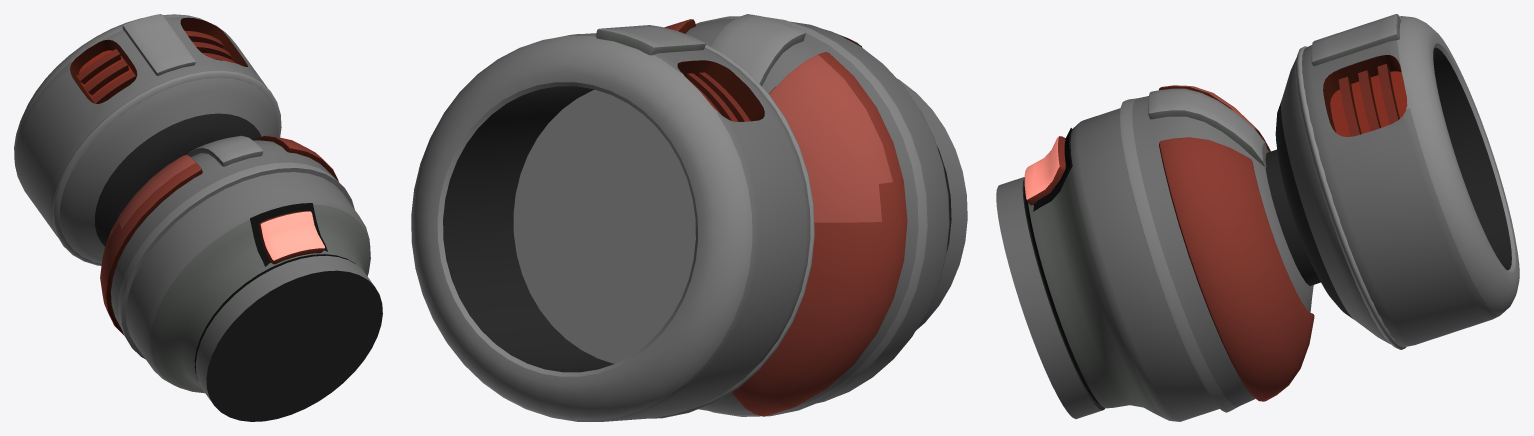
The model's file is red_tower_vents.glb.
The picture shows the model from 3 angles, left to right: view 1: azimuth 30°, elevation 25°; view 2: azimuth 150°, elevation 25°; view 3: azimuth 270°, elevation 25°; orthographic projection. The views are drawn at different scales.
Visible parts, largest first — view 1: red_tower_vents; view 2: red_tower_vents; view 3: red_tower_vents.
Boxes of the visible parts, x1,y1,x2,y2 form: red_tower_vents: [14, 14, 382, 421]; red_tower_vents: [411, 14, 967, 421]; red_tower_vents: [996, 14, 1519, 421].
Bounding box in the file's own units: 18.82 × 23.87 × 29.71.
